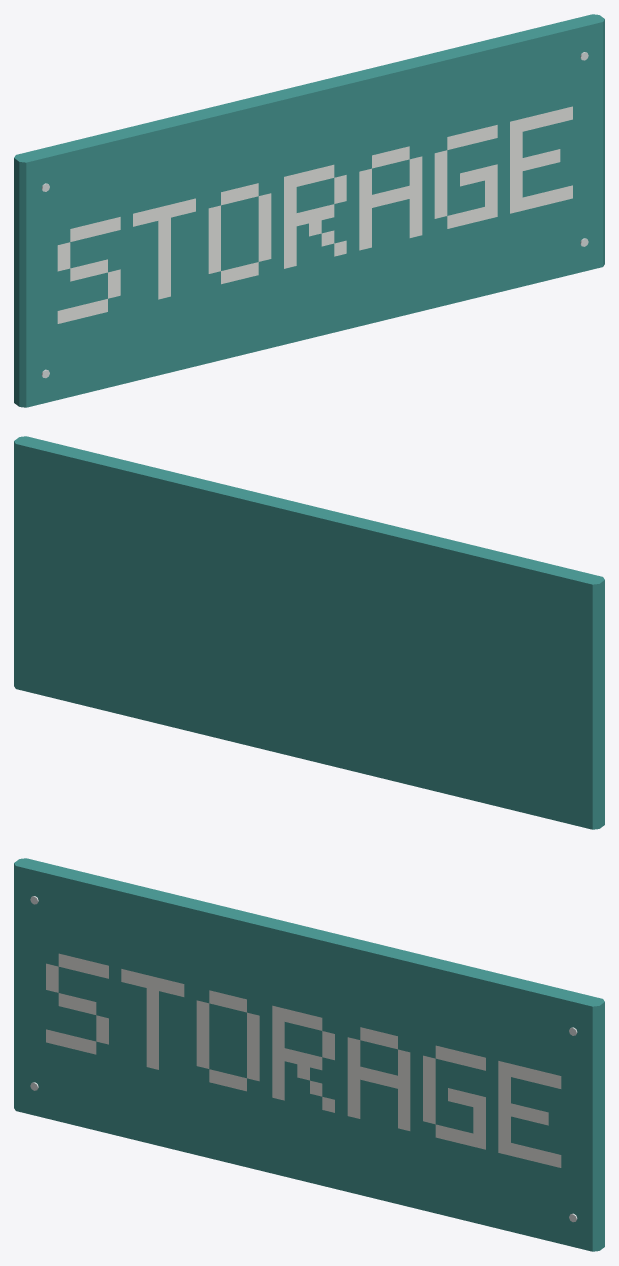
File: sign.glb
3 renders of one model, top to bottom at view 1: azimuth 30°, elevation 25°; view 2: azimuth 150°, elevation 25°; view 3: azimuth 330°, elevation 25°, orthographic.
Visible parts, largest first — view 1: 5S-skylt / etikett; view 2: 5S-skylt / etikett; view 3: 5S-skylt / etikett.
Part boxes in pixels (<box>): 5S-skylt / etikett: <box>14,14,604,407</box>; 5S-skylt / etikett: <box>14,436,604,829</box>; 5S-skylt / etikett: <box>14,858,604,1251</box>.
Size of the model in its own units: 0.45 by 0.18 by 0.015.
